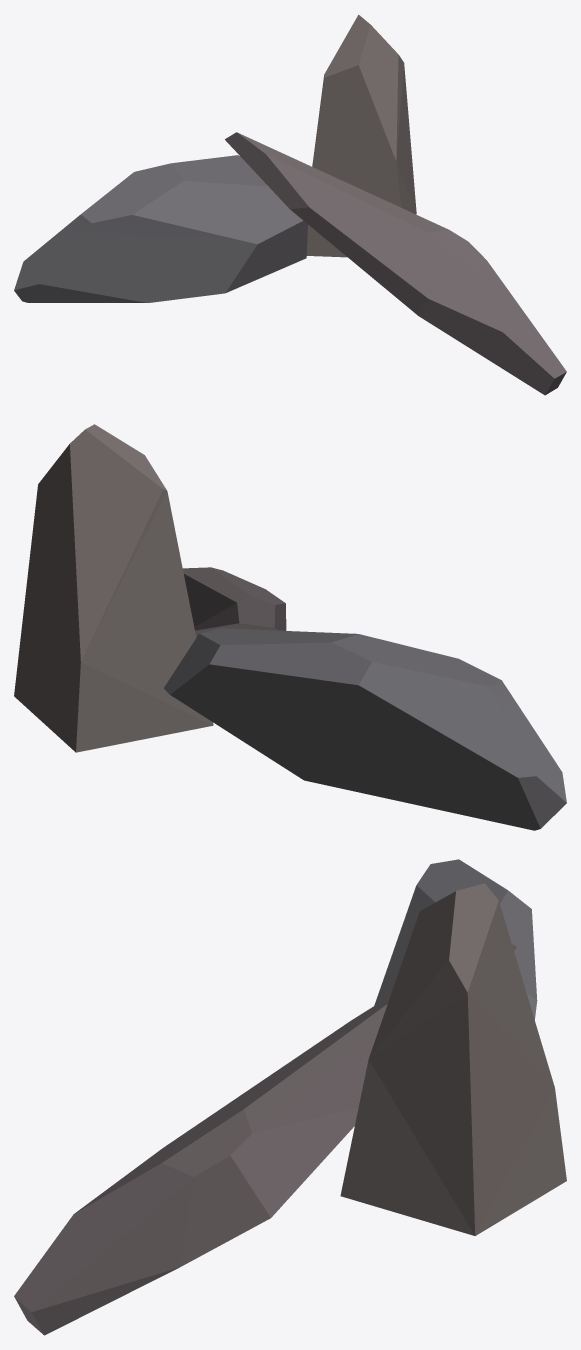
Rendered from Rocks_Sharp_m_01.fbx.
3 renders of one model, top to bottom at view 1: azimuth 30°, elevation 25°; view 2: azimuth 150°, elevation 25°; view 3: azimuth 270°, elevation 25°, orthographic. The views are drawn at different scales.
Parts seen in each view (by area): view 1: Rocks_Sharp_m_01; view 2: Rocks_Sharp_m_01; view 3: Rocks_Sharp_m_01.
Part boxes in pixels (x1,y1,x2,y2): Rocks_Sharp_m_01: (14, 14, 566, 395); Rocks_Sharp_m_01: (14, 424, 566, 830); Rocks_Sharp_m_01: (14, 859, 566, 1335).
Size of the model in its own units: 197 by 130 by 157.
